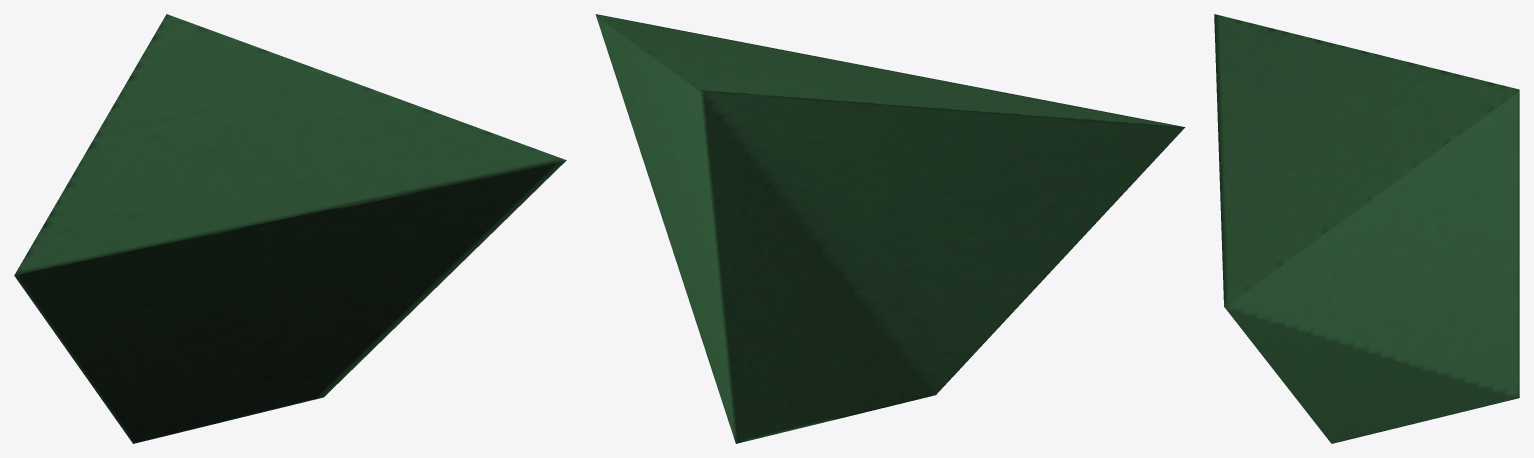
Rendered from mini.gltf.
The picture shows the model from 3 angles, left to right: view 1: azimuth 30°, elevation 25°; view 2: azimuth 150°, elevation 25°; view 3: azimuth 270°, elevation 25°; orthographic projection. The views are drawn at different scales.
Visible parts, largest first — view 1: Cone.003; view 2: Cone.003; view 3: Cone.003.
Boxes of the visible parts, x1=… form: Cone.003: x1=14, y1=14, x2=566, y2=443; Cone.003: x1=595, y1=14, x2=1185, y2=443; Cone.003: x1=1214, y1=14, x2=1519, y2=443.
Bounding box in the file's own units: 2.79 × 1.57 × 1.34.
Materials: 1 (1 with a texture image).
